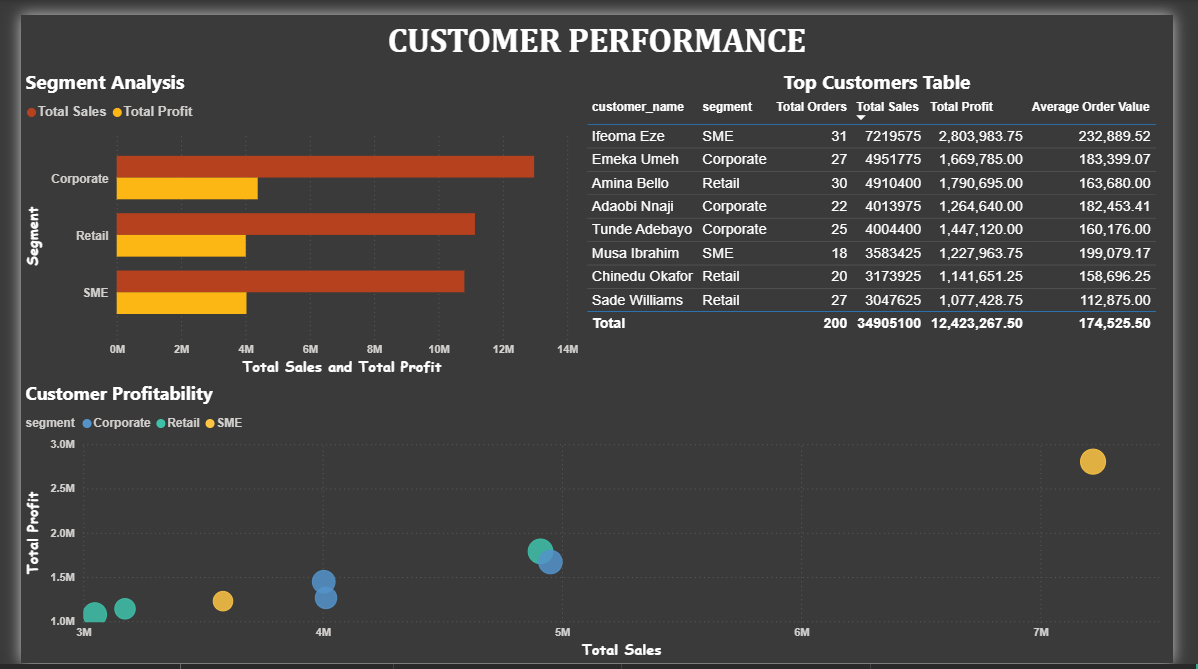

The dashboard page shown, as its layout file describes it:
{"tool":"powerbi","page":{"name":"Customer Performance","canvas":[1280,720],"ordinal":2},"visuals":[{"type":"clusteredBarChart","title":"Segment Analysis","fields":{"Category":["sales_summary_view.segment"],"Y":["sales_summary_view.Total Sales","sales_summary_view.Total Profit"]},"box":[0,58.6,623.6,347.7],"z":0},{"type":"tableEx","title":"Top Customers Table","fields":{"Values":["sales_summary_view.customer_name","sales_summary_view.segment","sales_summary_view.Total Orders","sales_summary_view.Total Sales","sales_summary_view.Total Profit","sales_summary_view.Average Order Value"]},"box":[623.6,58.6,655.8,347.7],"z":1000},{"type":"scatterChart","title":"Customer Profitability","fields":{"X":["sales_summary_view.Total Sales"],"Y":["sales_summary_view.Total Profit"],"Size":["sales_summary_view.Total Orders"],"Category":["sales_summary_view.customer_name"],"Series":["sales_summary_view.segment"]},"box":[0,406.3,1279.4,313.7],"z":2000},{"type":"textbox","box":[0,0,1279.4,58.6],"z":3000},{"type":"slicer","fields":{"Values":["sales_summary_view.order_year","sales_summary_view.region","sales_summary_view.category","sales_summary_view.segment","sales_summary_view.sales_channel","sales_summary_view.order_status"]},"box":[350.9,90.6,405.7,239.6],"z":4000}]}

Visuals, with their boxes in screenshot pixels (x1, y1, x2, y2), scaled from the page's 1280x720 canvas onto the 1198x669 screenshot:
"Segment Analysis" clusteredBarChart: <region>0, 54, 584, 378</region>
"Top Customers Table" tableEx: <region>584, 54, 1197, 378</region>
"Customer Profitability" scatterChart: <region>0, 378, 1197, 668</region>
textbox: <region>0, 0, 1197, 54</region>
slicer - sales_summary_view.order_year x sales_summary_view.region: <region>328, 84, 708, 307</region>
